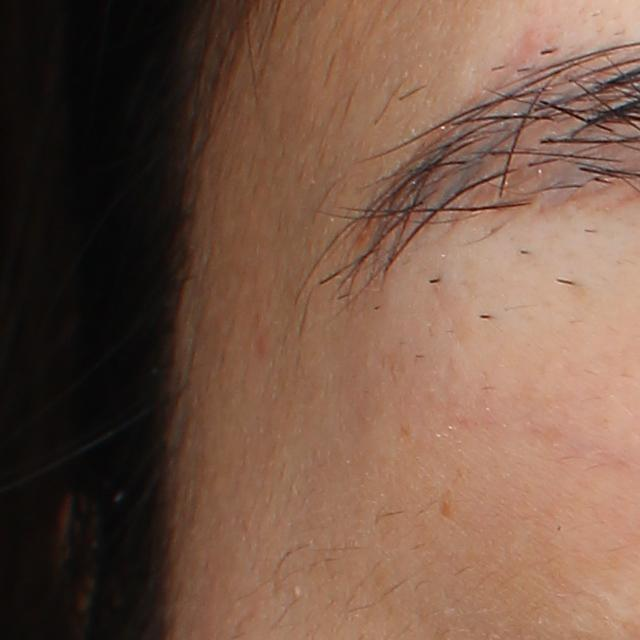melasma: (437, 493, 458, 516)
